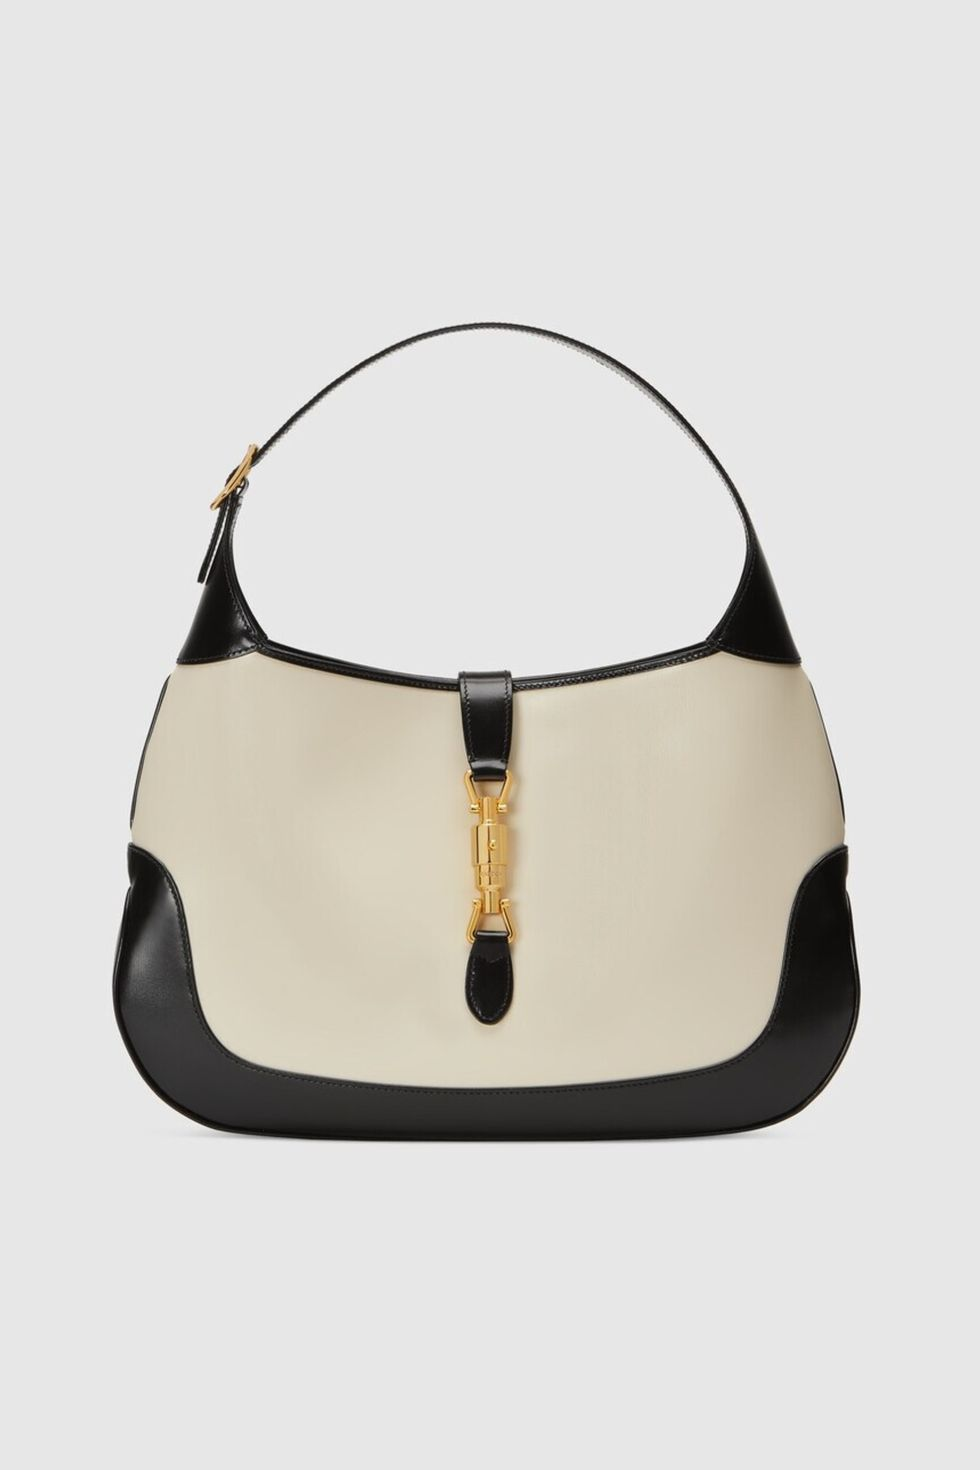cartera: (104, 308, 879, 1148)
cuero: (106, 621, 866, 1143)
